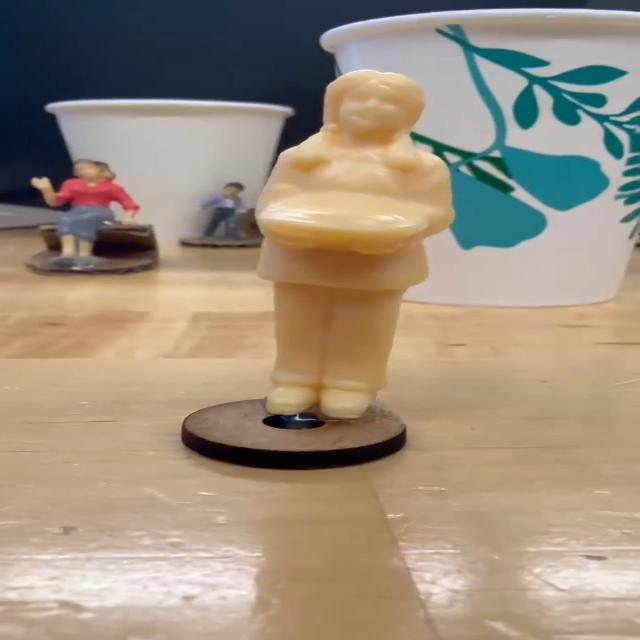Unauthorized: (191, 63, 450, 448)
